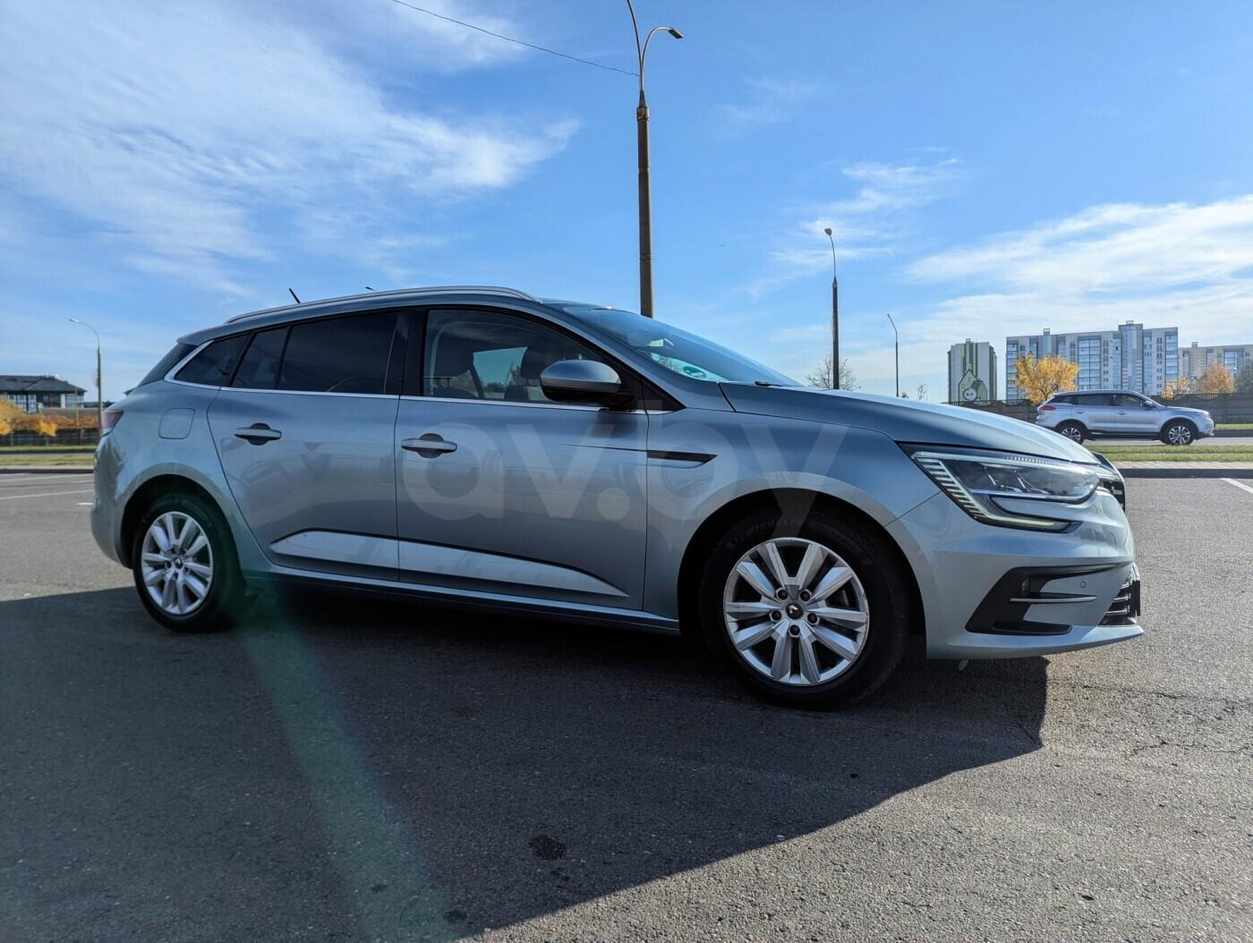Megane_2020: (87, 294, 1157, 700)
